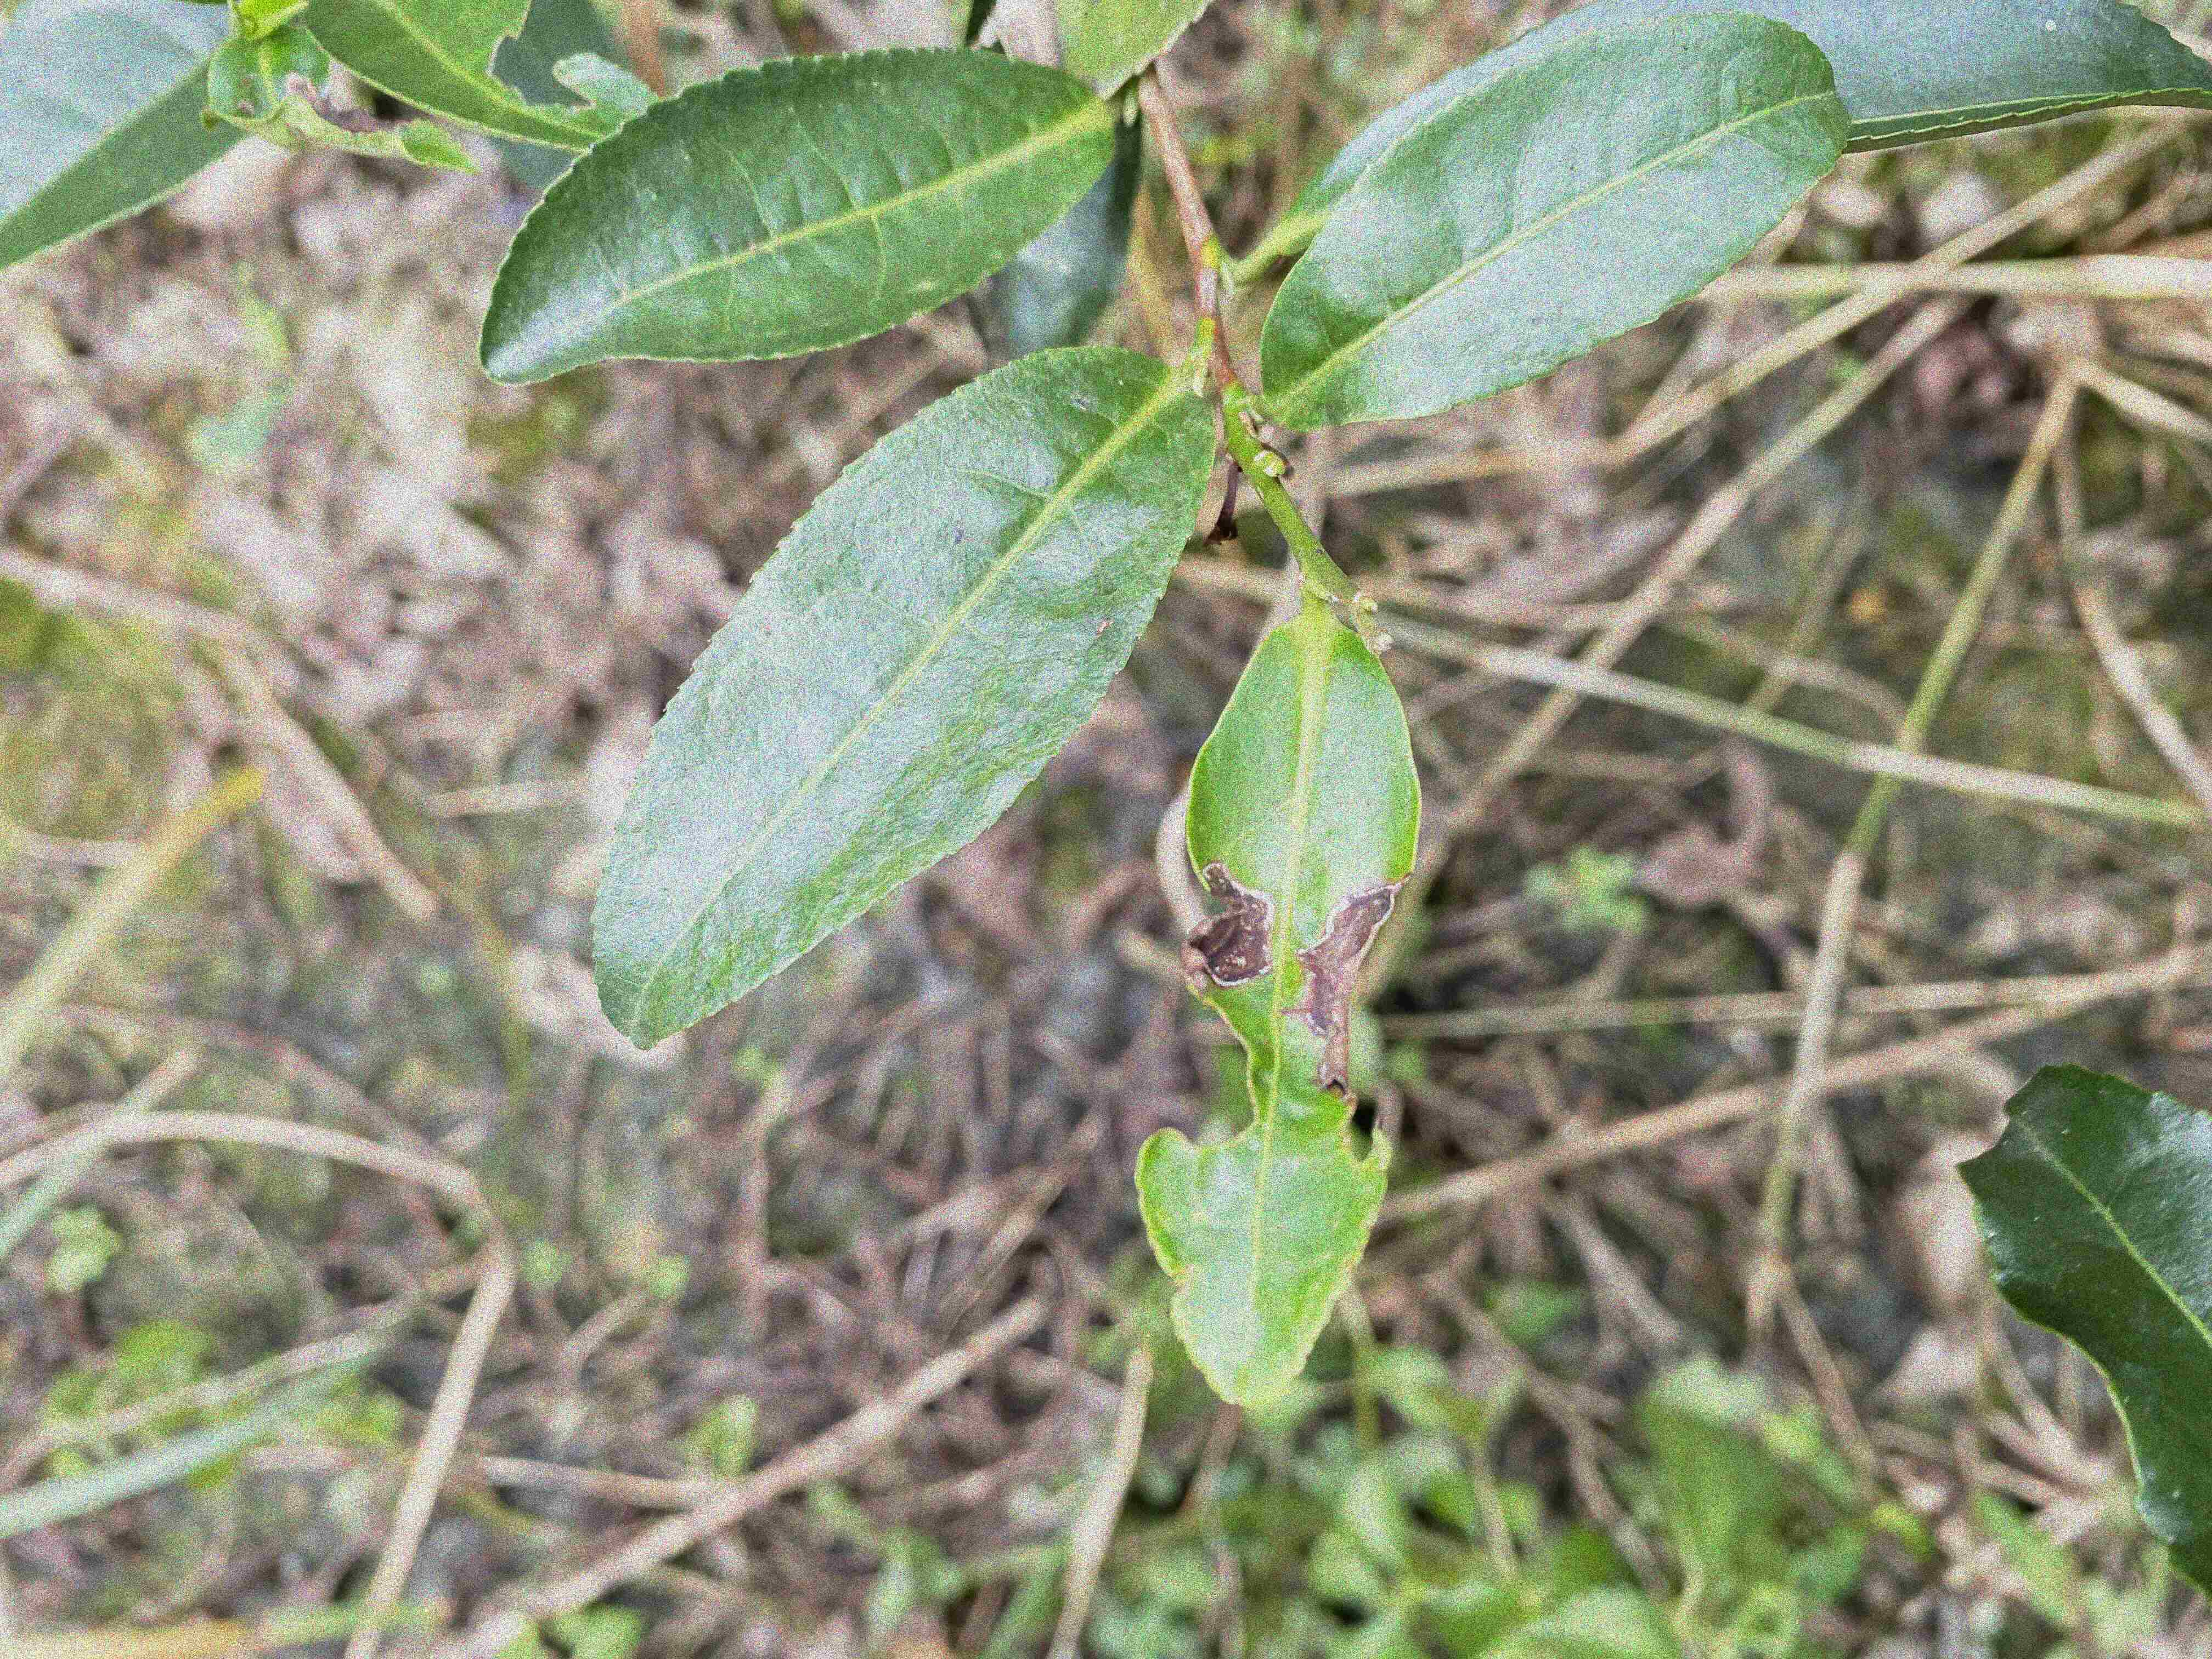healthy: (1261, 14, 1851, 432), (481, 45, 1116, 387)
tanju_high: (1136, 620, 1421, 1408)
